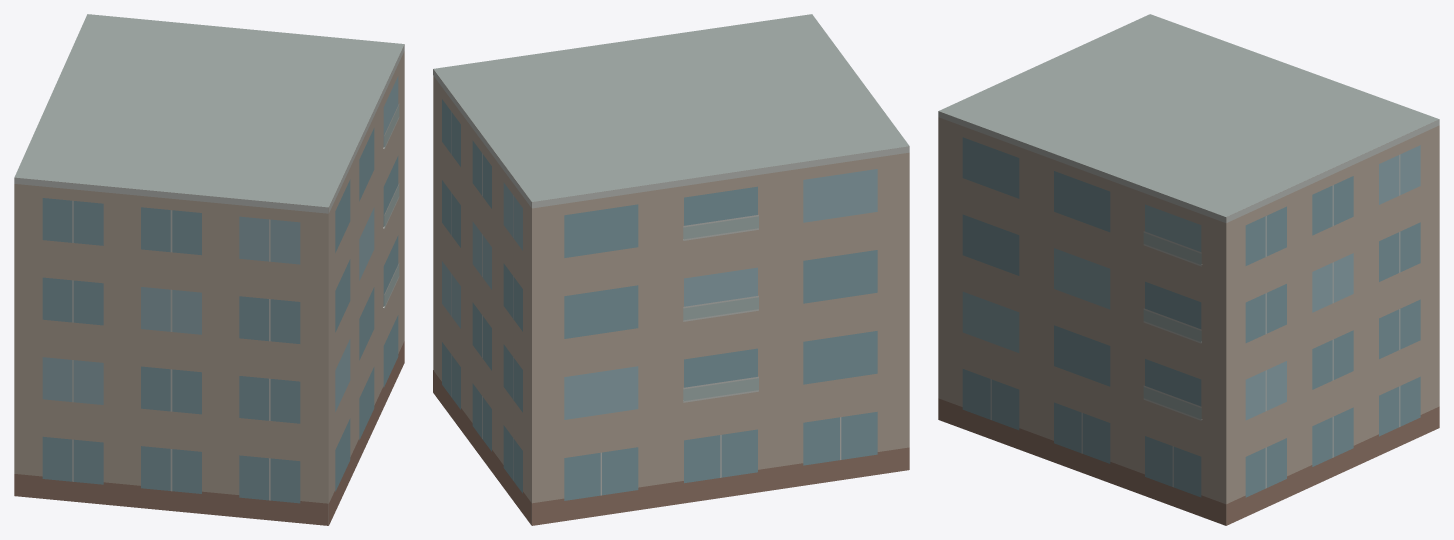
Rendered from survey-upis-32914747.glb.
3 renders of one model, left to right at view 1: azimuth 30°, elevation 25°; view 2: azimuth 150°, elevation 25°; view 3: azimuth 270°, elevation 25°, orthographic. The views are drawn at different scales.
Visible parts, largest first — view 1: survey-upis-32914747.tmp; view 2: survey-upis-32914747.tmp; view 3: survey-upis-32914747.tmp.
Boxes of the visible parts, bbox=[...] form: survey-upis-32914747.tmp: bbox=[14, 14, 404, 525]; survey-upis-32914747.tmp: bbox=[433, 14, 909, 525]; survey-upis-32914747.tmp: bbox=[938, 14, 1439, 525].
Size of the model in its own units: 17.51 by 12.4 by 18.25.
